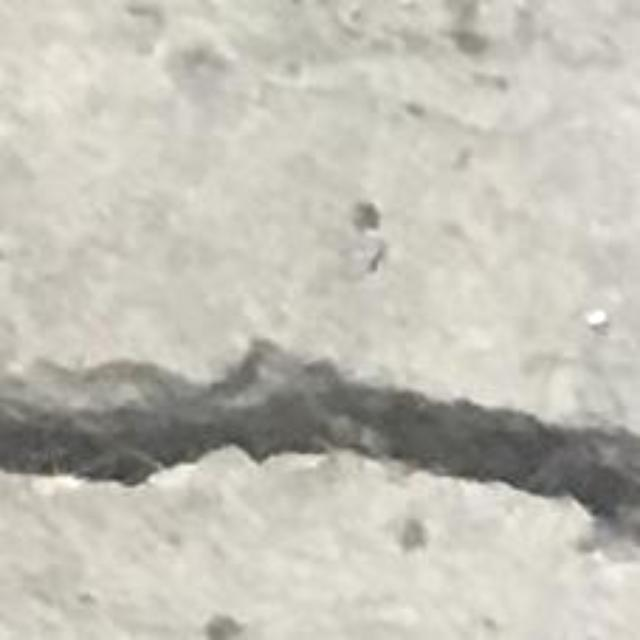crack: (0, 342, 639, 532)
